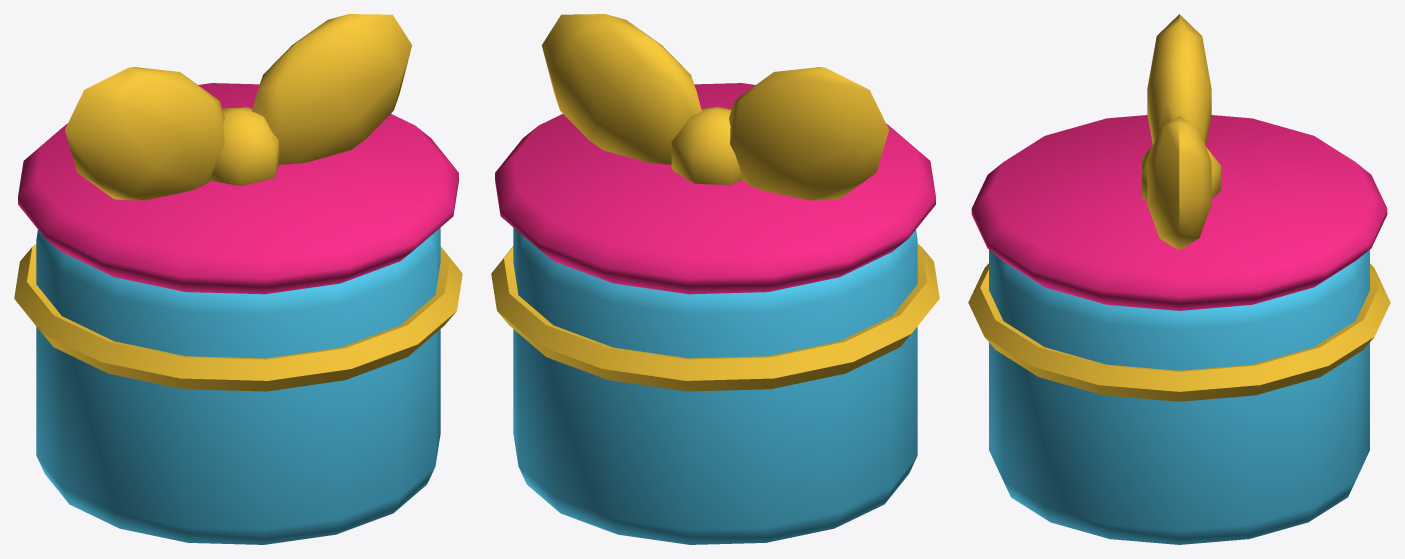
File: W6_GiftBox_C.fbx
3 renders of one model, left to right at view 1: azimuth 30°, elevation 25°; view 2: azimuth 150°, elevation 25°; view 3: azimuth 270°, elevation 25°, orthographic. The views are drawn at different scales.
Parts seen in each view (by area): view 1: W6_GiftBox_C; view 2: W6_GiftBox_C; view 3: W6_GiftBox_C.
Boxes of the visible parts, x1,y1,x2,y2 form: W6_GiftBox_C: [14, 14, 462, 544]; W6_GiftBox_C: [491, 14, 939, 544]; W6_GiftBox_C: [968, 14, 1390, 544].
Size of the model in its own units: 1.22 by 1.28 by 1.22.
